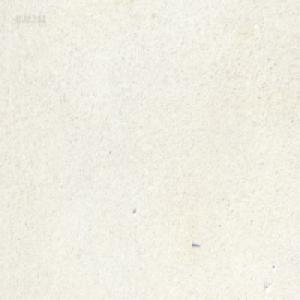Nail: (191, 241, 200, 248)
